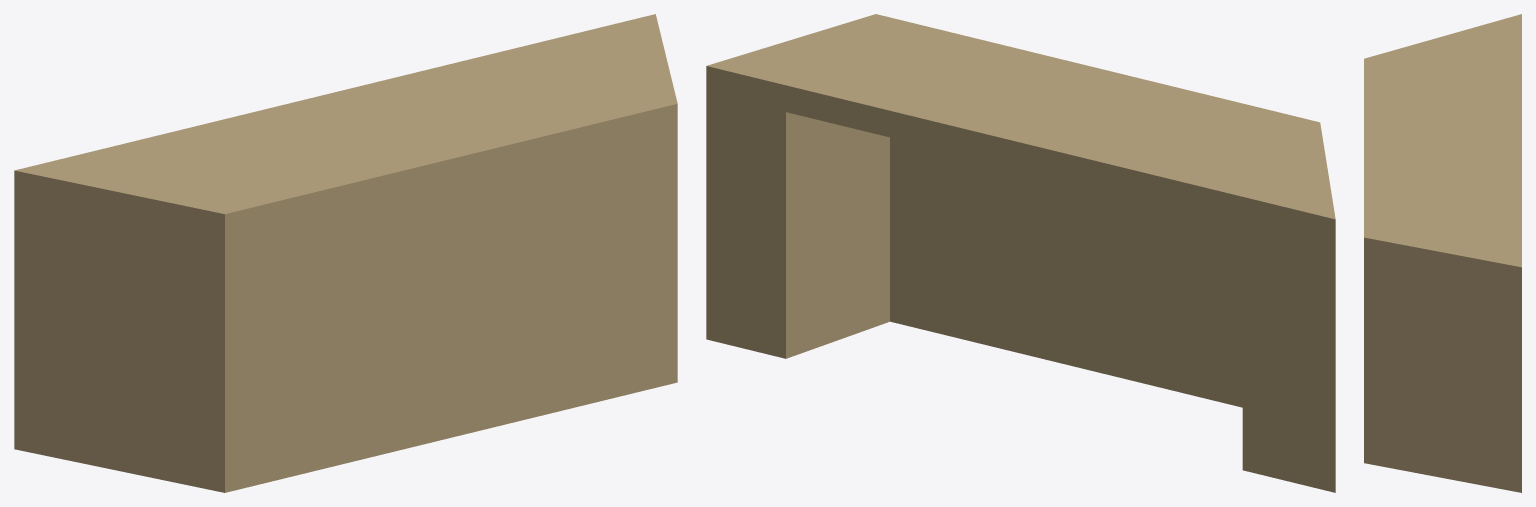
File: table.fbx
3 renders of one model, left to right at view 1: azimuth 30°, elevation 25°; view 2: azimuth 150°, elevation 25°; view 3: azimuth 270°, elevation 25°, orthographic. The views are drawn at different scales.
Parts seen in each view (by area): view 1: Line003; view 2: Line003; view 3: Line003.
Part boxes in pixels (x1=…): Line003: x1=14, y1=14, x2=677, y2=492; Line003: x1=706, y1=14, x2=1335, y2=492; Line003: x1=1364, y1=14, x2=1521, y2=492.
Size of the model in its own units: 21356 by 8869 by 5621.
